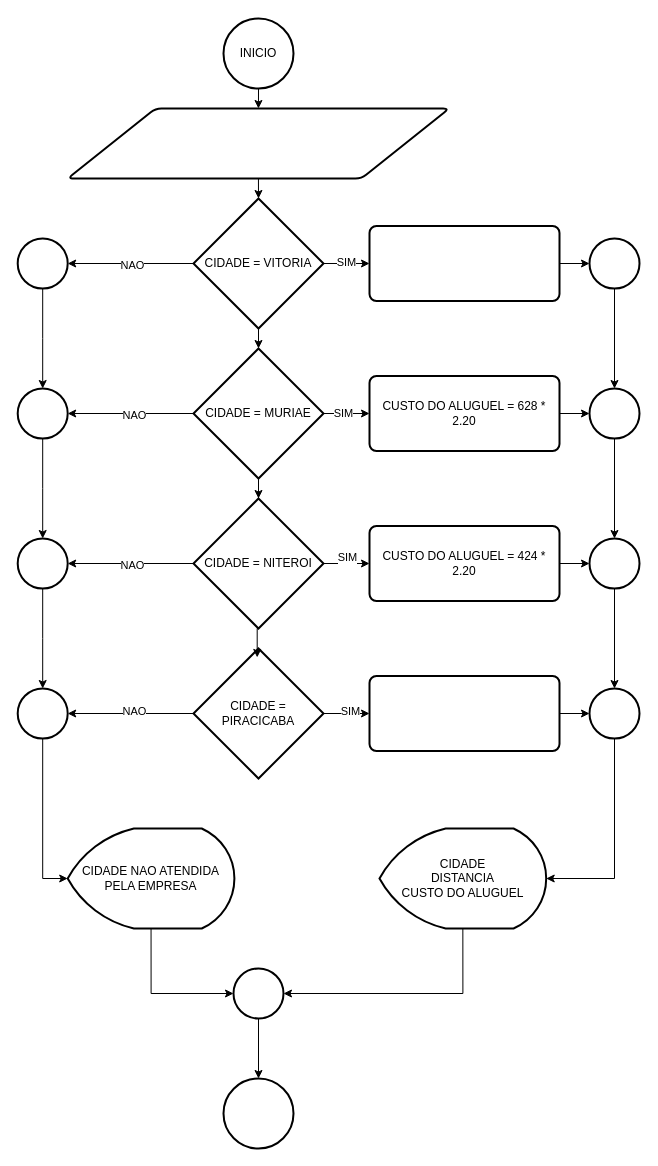
Some shapes in this 658 by 1166 pixel diagram are drawn without their labels. Each missing label, with the box of its shape:
CUSTO DO ALUGUEL = 168 * 2.20: (368, 674, 560, 752)
CUSTO DO ALUGUEL = 949 * 2.20: (368, 224, 560, 302)
DIGITE A CIDADE [VITORIA, MURIAE, NITEROI, PIRACICABA]: (66, 107, 450, 179)
FIM: (222, 1077, 294, 1149)
